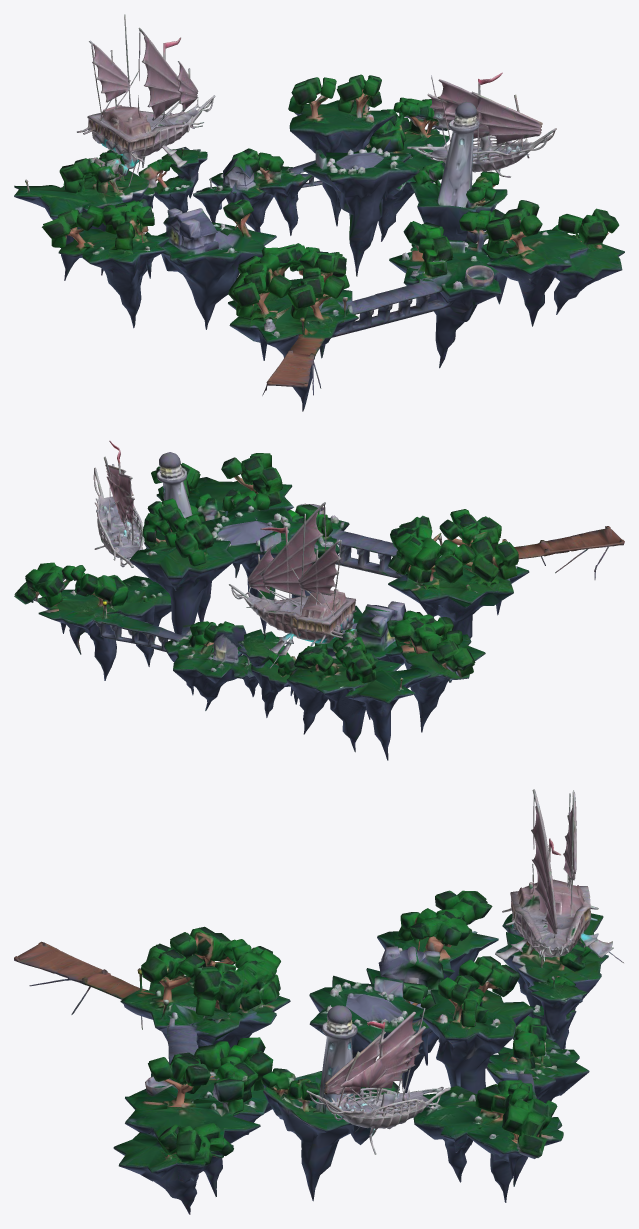
The model's file is Skybound_Isles.glb.
3 views of the same model, one above another, from view 1: azimuth 30°, elevation 25°; view 2: azimuth 150°, elevation 25°; view 3: azimuth 270°, elevation 25° (orthographic). The views are drawn at different scales.
Parts seen in each view (by area): view 1: Skybound_Isles; view 2: Skybound_Isles; view 3: Skybound_Isles.
Boxes of the visible parts, x1,y1,x2,y2 form: Skybound_Isles: [14, 14, 624, 411]; Skybound_Isles: [14, 440, 624, 760]; Skybound_Isles: [14, 789, 623, 1214].
Bounding box in the file's own units: 1.86 × 1.1 × 1.92.
Materials: 1 (1 with a texture image).
